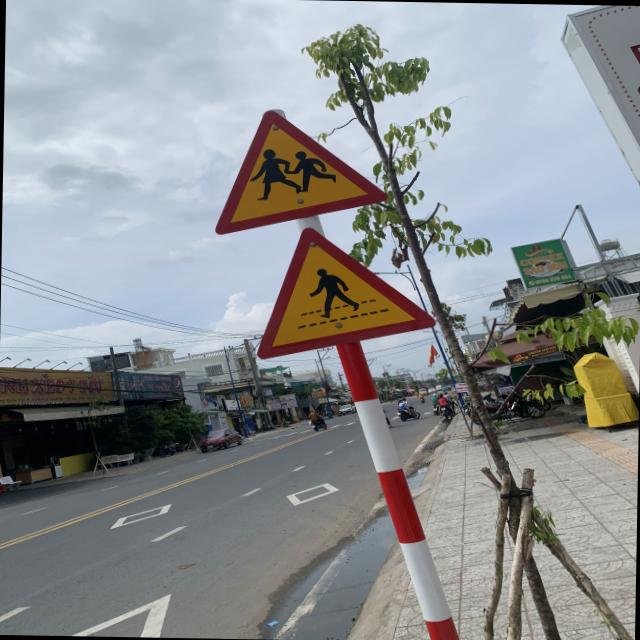Duong_Nguoi_Di_Bo_Sang_Ngang: (253, 226, 440, 362)
Vong_Xuyen: (216, 110, 390, 238)
